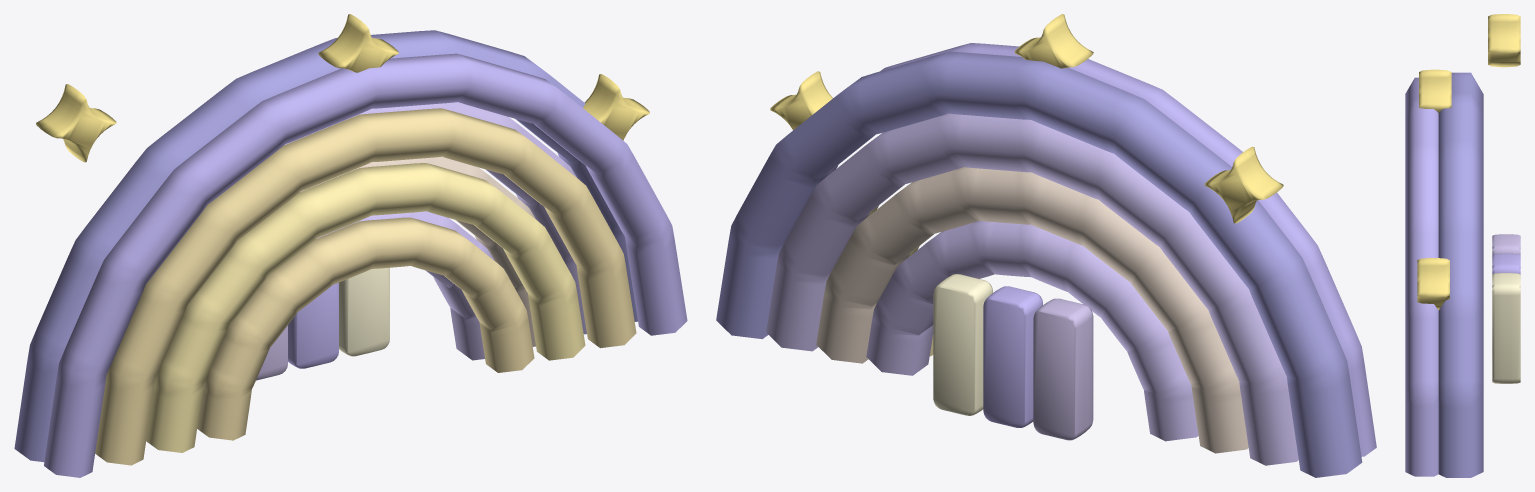
File: decor_3_star.glb
3 renders of one model, left to right at view 1: azimuth 30°, elevation 25°; view 2: azimuth 150°, elevation 25°; view 3: azimuth 270°, elevation 25°, orthographic. The views are drawn at different scales.
Parts seen in each view (by area): view 1: decor_3_star; view 2: decor_3_star; view 3: decor_3_star.
Part boxes in pixels (box(x1,y1,x2,y2)): decor_3_star: box(14, 14, 687, 477); decor_3_star: box(716, 14, 1376, 477); decor_3_star: box(1405, 14, 1520, 477).
Size of the model in its own units: 15.11 by 8.46 by 3.03.
